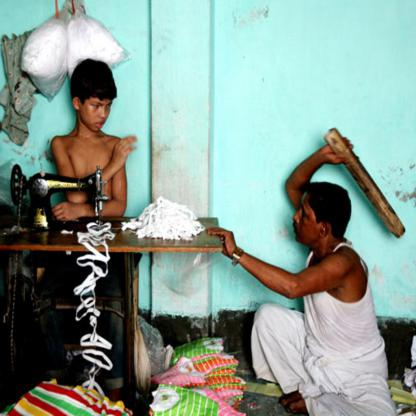face: (293, 192, 326, 245), (85, 90, 111, 131)
